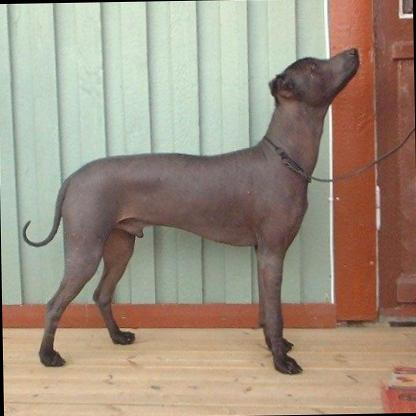Mexican_hairless: (13, 45, 368, 381)
